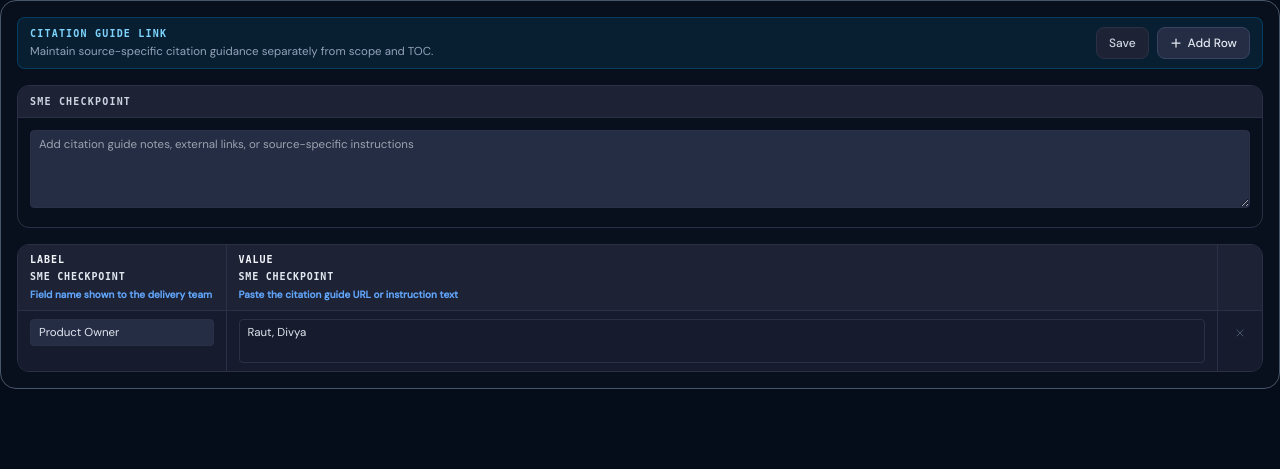
Scenario: BRD metadata and document structure regressions › supports keyboard shortcuts for adding and deleting citation guide rows
Step 1. Focus the field with placeholder "e.g. Link" → [122, 332], box top-left (30, 319), bottom-right (214, 346)
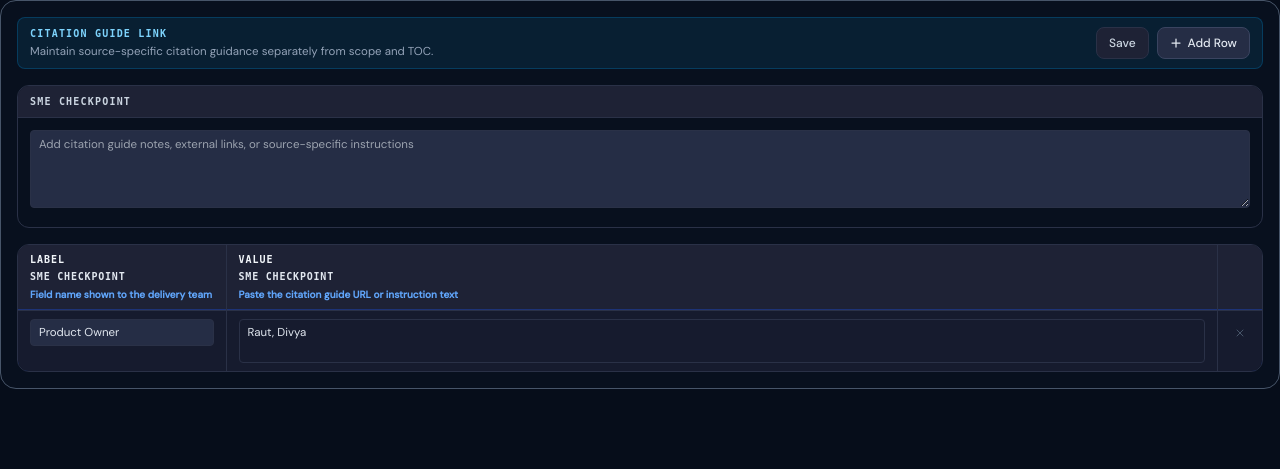
Step 2. Press w
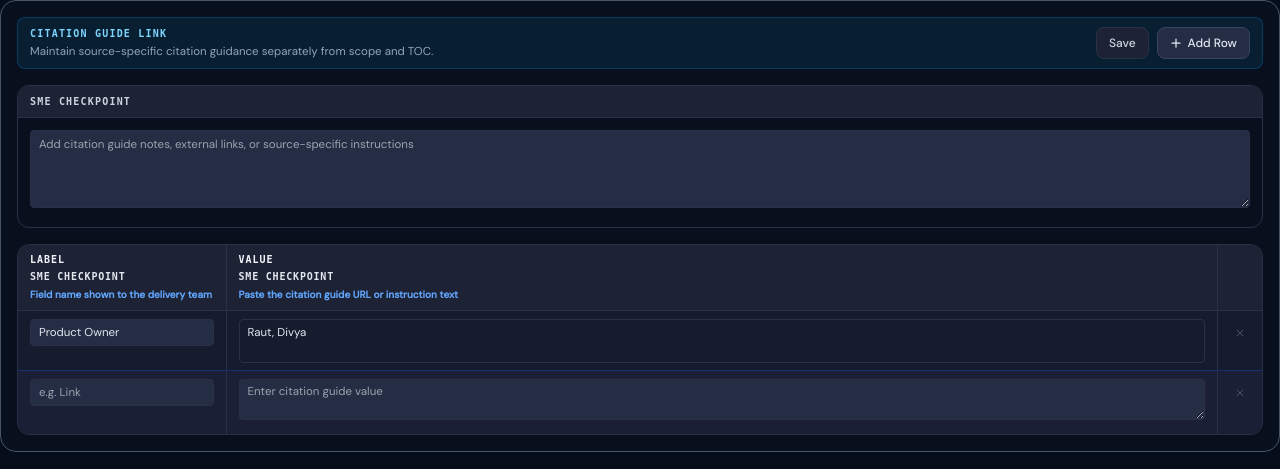
Check: the number of fields with placeholder "e.g. Link" is 2, box top-left (30, 319), bottom-right (214, 346); top-left (30, 379), bottom-right (214, 406)
Step 3. Press Delete
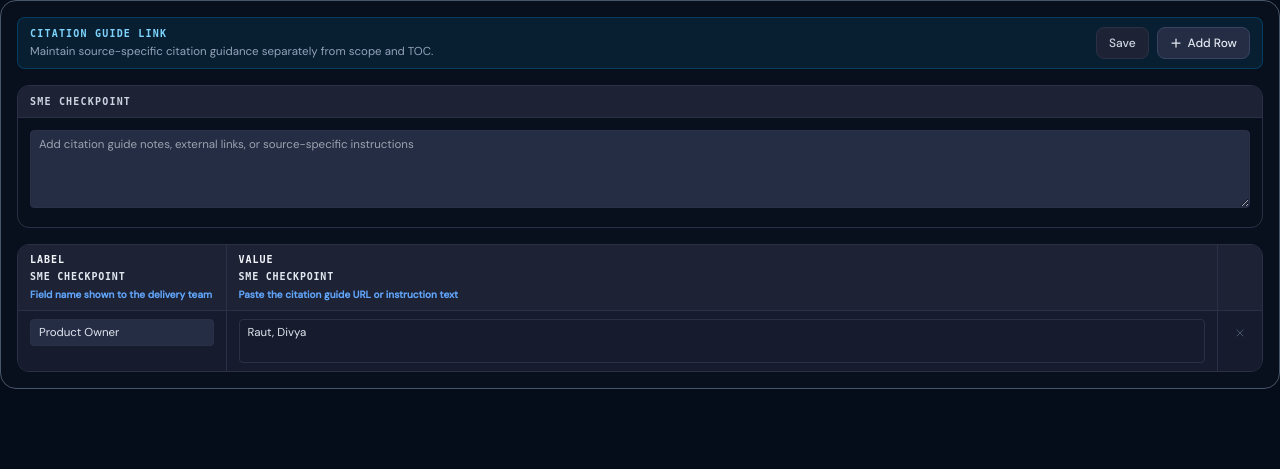
Check: the number of fields with placeholder "e.g. Link" is 1, box top-left (30, 319), bottom-right (214, 346)
